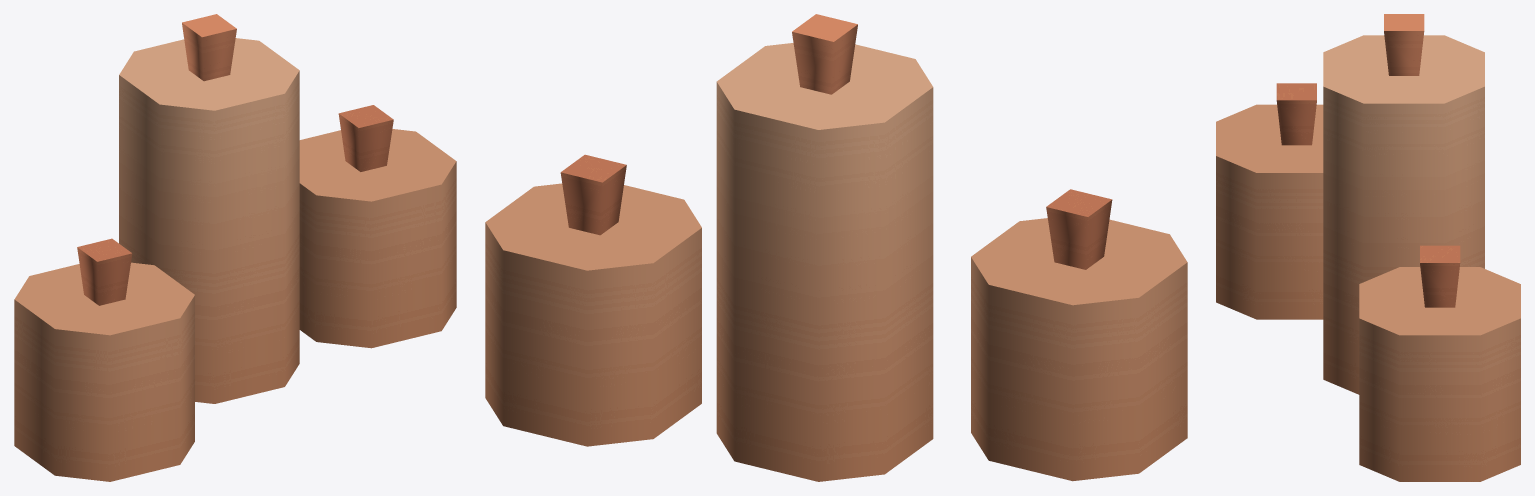
File: candle-multiple.glb
3 renders of one model, left to right at view 1: azimuth 30°, elevation 25°; view 2: azimuth 150°, elevation 25°; view 3: azimuth 270°, elevation 25°, orthographic. The views are drawn at different scales.
Visible parts, largest first — view 1: candle-multiple; view 2: candle-multiple; view 3: candle-multiple.
Part boxes in pixels (left/top/right/bottom): candle-multiple: left=14, top=14, right=456, bottom=481; candle-multiple: left=485, top=14, right=1187, bottom=481; candle-multiple: left=1216, top=14, right=1520, bottom=481.
Bounding box in the file's own units: 0.5065 × 0.348 × 0.2828.
1 material, 1 textured.
